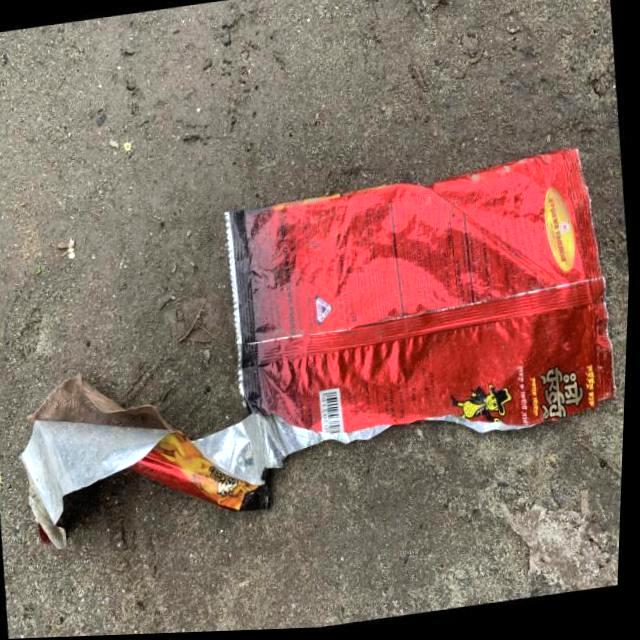packet: (230, 187, 600, 433)
